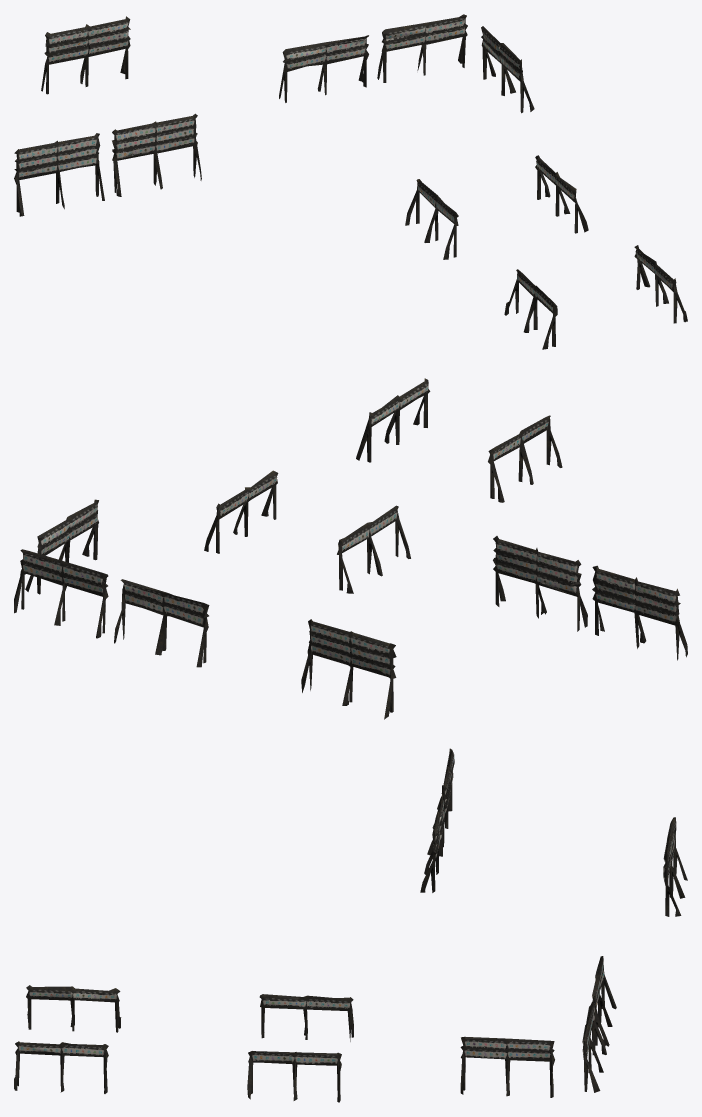
Rendered from clod_town_sl_clod001_obj.gltf.
3 views of the same model, one above another, from view 1: azimuth 30°, elevation 25°; view 2: azimuth 150°, elevation 25°; view 3: azimuth 270°, elevation 25° (orthographic). The views are drawn at different scales.
Parts seen in each view (by area): view 1: clod_town_sl_clod001_obj_000_meshShape:remesh_mat; view 2: clod_town_sl_clod001_obj_000_meshShape:remesh_mat; view 3: clod_town_sl_clod001_obj_000_meshShape:remesh_mat.
Part boxes in pixels (x1,y1,x2,y2): clod_town_sl_clod001_obj_000_meshShape:remesh_mat: (14,14,687,349); clod_town_sl_clod001_obj_000_meshShape:remesh_mat: (14,378,687,719); clod_town_sl_clod001_obj_000_meshShape:remesh_mat: (14,748,687,1102).
Size of the model in its own units: 73.44 by 16.38 by 80.67.
Materials: 1 (1 with a texture image).
